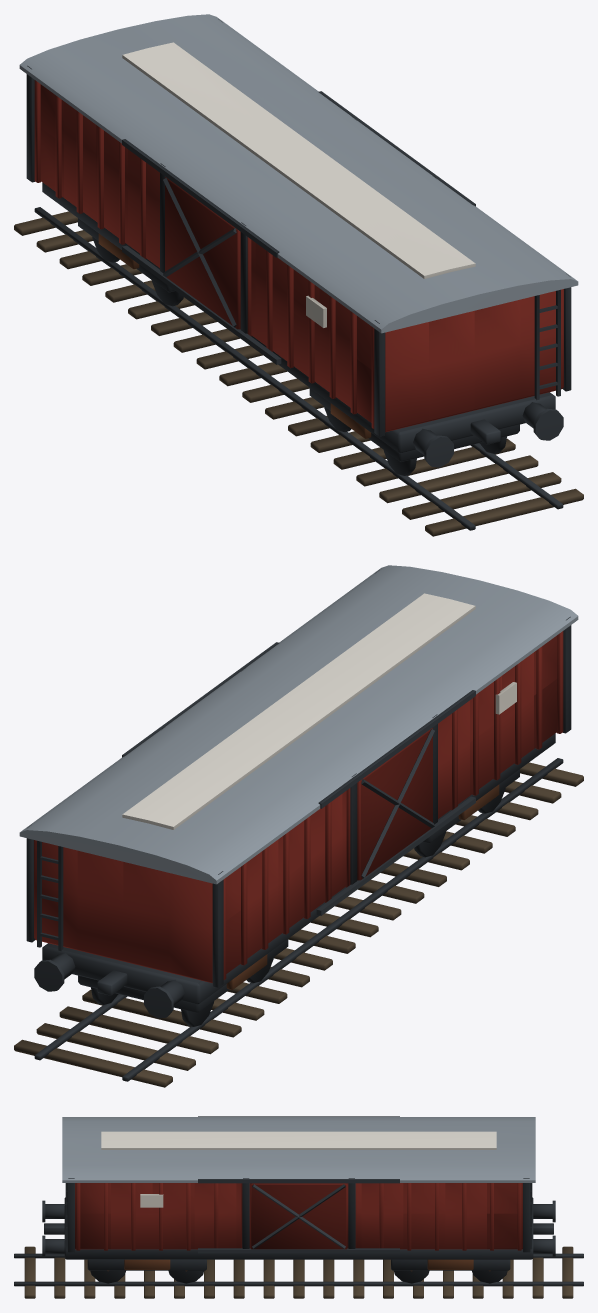
File: rail_wagon.glb
3 views of the same model, one above another, from view 1: azimuth 30°, elevation 25°; view 2: azimuth 150°, elevation 25°; view 3: azimuth 270°, elevation 25° (orthographic). The views are drawn at different scales.
Visible parts, largest first — view 1: rail_wagon_zinc, rail_wagon_red_timber, rail_wagon_iron, rail_wagon_snow, rail_wagon_wood, rail_wagon_rust; view 2: rail_wagon_zinc, rail_wagon_red_timber, rail_wagon_iron, rail_wagon_snow, rail_wagon_wood, rail_wagon_rust; view 3: rail_wagon_red_timber, rail_wagon_zinc, rail_wagon_iron, rail_wagon_snow, rail_wagon_wood, rail_wagon_rust, rail_wagon_white_paint.
Part boxes in pixels (bbox=[...]): rail_wagon_zinc: bbox=[19, 14, 578, 333]; rail_wagon_red_timber: bbox=[34, 80, 563, 432]; rail_wagon_iron: bbox=[26, 19, 571, 530]; rail_wagon_snow: bbox=[122, 42, 475, 278]; rail_wagon_wood: bbox=[14, 211, 583, 536]; rail_wagon_rust: bbox=[98, 233, 371, 438]; rail_wagon_zinc: bbox=[19, 565, 578, 884]; rail_wagon_red_timber: bbox=[34, 631, 563, 983]; rail_wagon_iron: bbox=[26, 570, 571, 1081]; rail_wagon_snow: bbox=[122, 593, 475, 829]; rail_wagon_wood: bbox=[14, 762, 583, 1087]; rail_wagon_rust: bbox=[226, 784, 499, 989]; rail_wagon_red_timber: bbox=[75, 1183, 522, 1250]; rail_wagon_zinc: bbox=[62, 1117, 535, 1182]; rail_wagon_iron: bbox=[14, 1116, 583, 1286]; rail_wagon_snow: bbox=[101, 1131, 496, 1149]; rail_wagon_wood: bbox=[24, 1246, 573, 1298]; rail_wagon_rust: bbox=[107, 1259, 490, 1271]; rail_wagon_white_paint: bbox=[140, 1194, 163, 1207].
Size of the model in its own units: 3.32 by 3.25 by 12.4.
